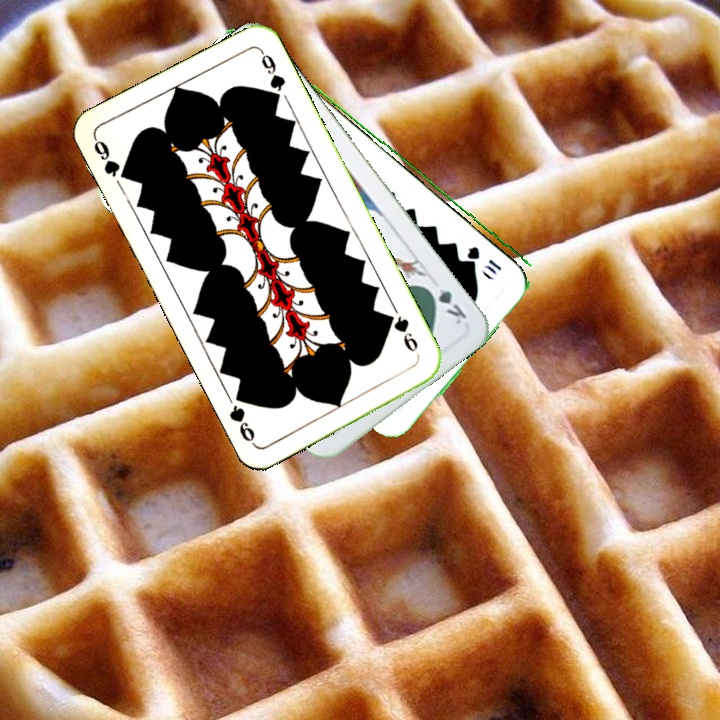G10: (464, 242, 504, 277)
G9: (89, 134, 133, 183), (383, 310, 421, 355)
GK: (422, 281, 470, 327)
